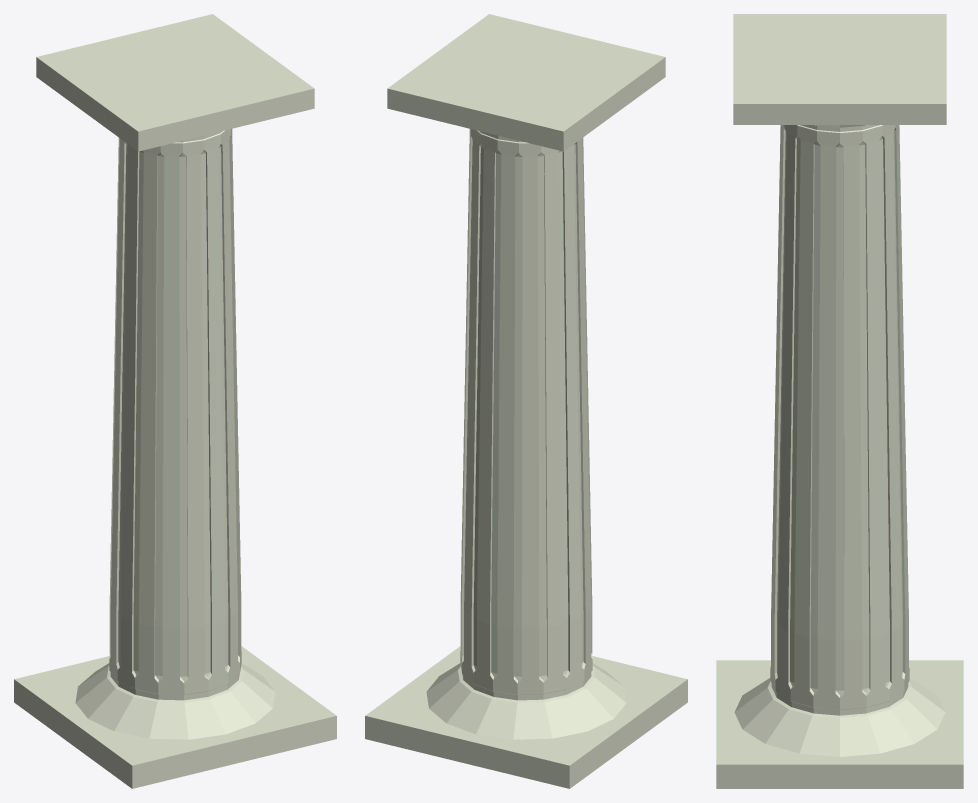
File: greek_pillar_normal.fbx
3 renders of one model, left to right at view 1: azimuth 30°, elevation 25°; view 2: azimuth 150°, elevation 25°; view 3: azimuth 270°, elevation 25°, orthographic. The views are drawn at different scales.
Visible parts, largest first — view 1: Cube; view 2: Cube; view 3: Cube.
Boxes of the visible parts, <box> form: Cube: <box>14,14,336,788</box>; Cube: <box>365,14,687,788</box>; Cube: <box>716,14,963,788</box>.
Bounding box in the file's own units: 160 × 485 × 160.
